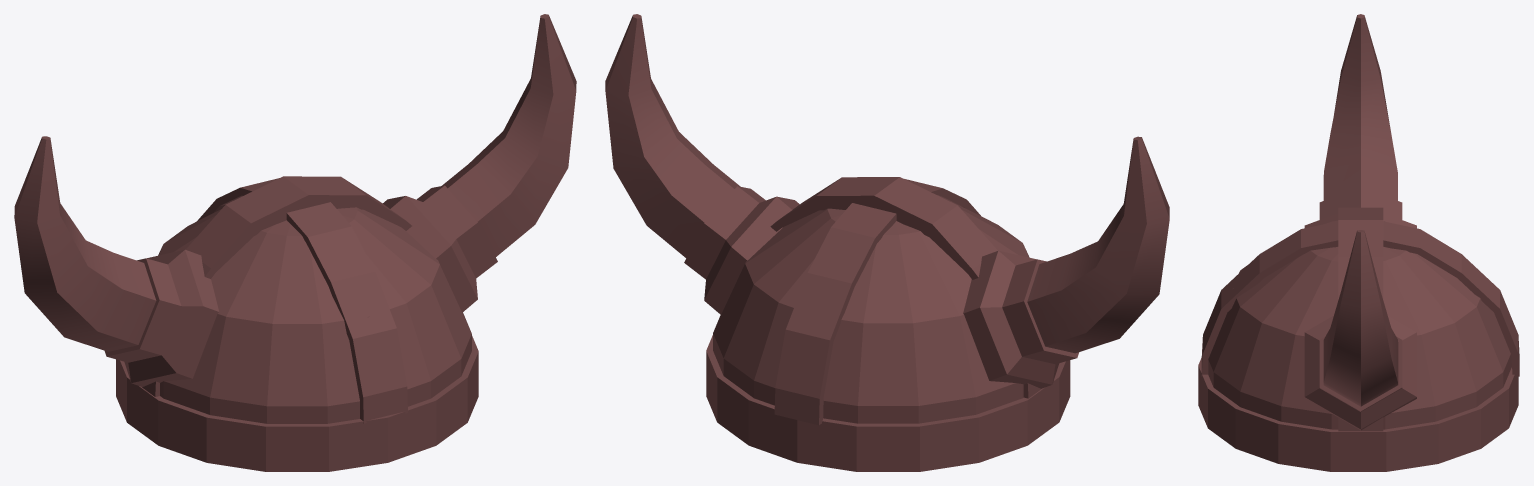
The model's file is SM_helmet_horns_01.fbx.
3 renders of one model, left to right at view 1: azimuth 30°, elevation 25°; view 2: azimuth 150°, elevation 25°; view 3: azimuth 270°, elevation 25°, orthographic. The views are drawn at different scales.
Parts seen in each view (by area): view 1: Object004; view 2: Object004; view 3: Object004.
Part boxes in pixels (x1=…): Object004: x1=14, y1=14, x2=576, y2=471; Object004: x1=605, y1=14, x2=1169, y2=471; Object004: x1=1198, y1=14, x2=1519, y2=471.
Bounding box in the file's own units: 16.94 × 9.19 × 9.5.
